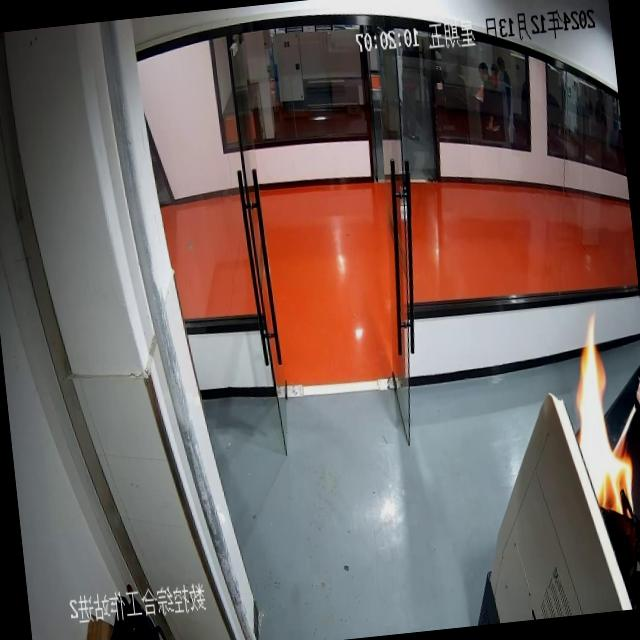fire: (547, 290, 640, 559)
